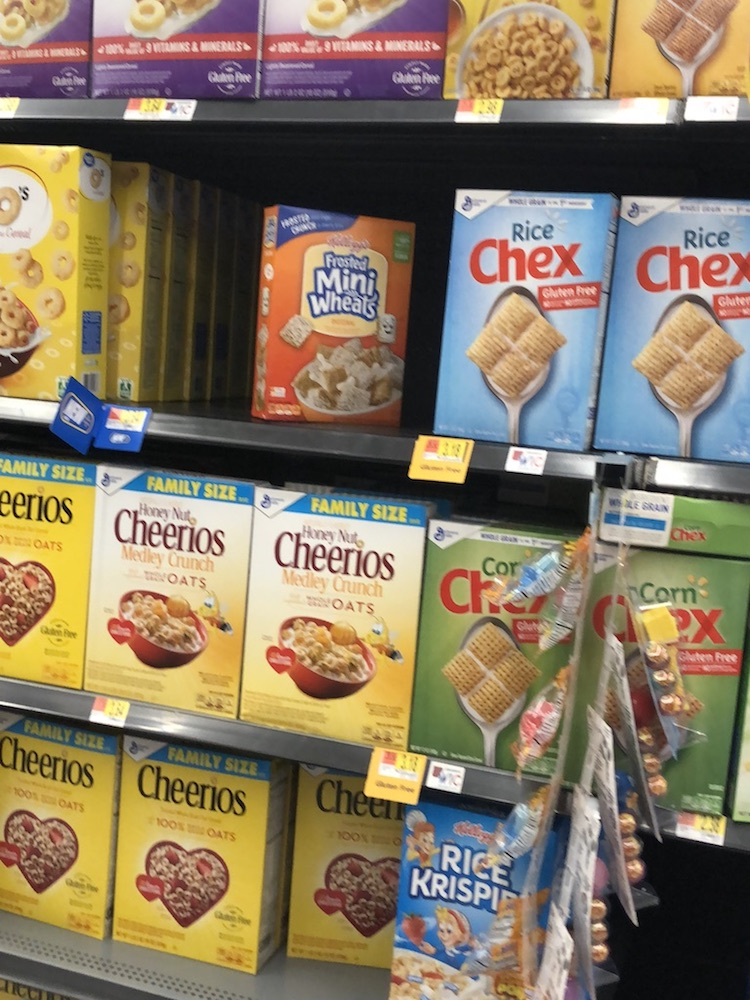Frosted Mini Original -9295869: (265, 214, 410, 429)
